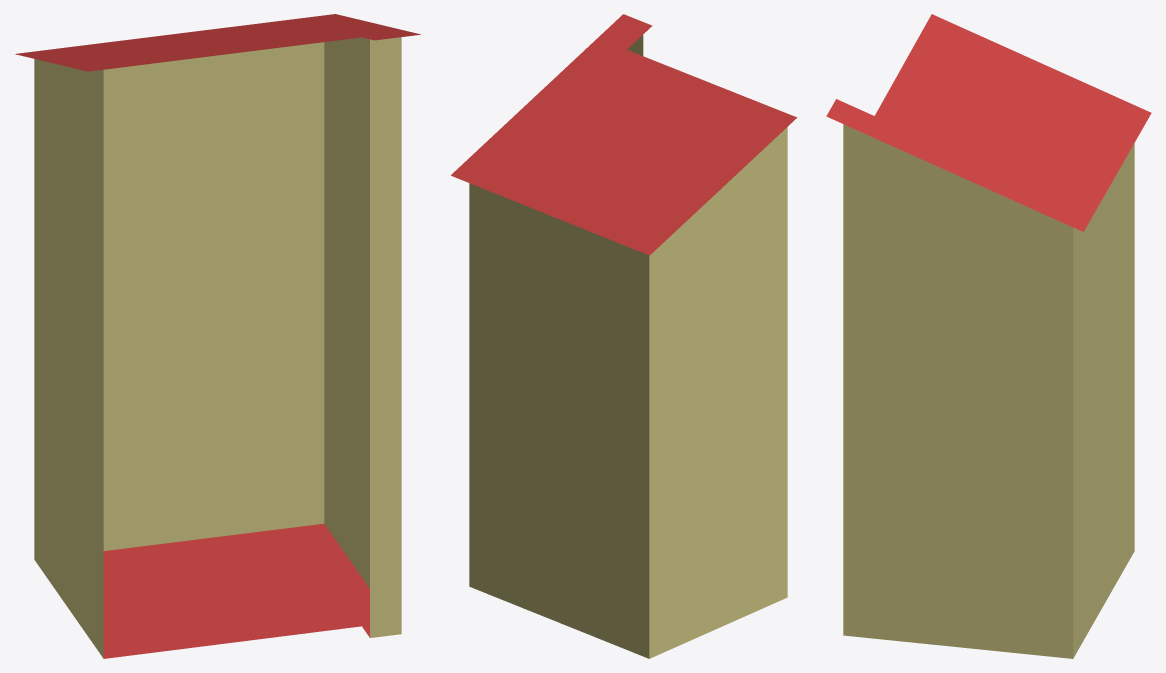
3 renders of one model, left to right at view 1: azimuth 30°, elevation 25°; view 2: azimuth 150°, elevation 25°; view 3: azimuth 270°, elevation 25°, orthographic. The views are drawn at different scales.
Size of the model in its own units: 5.9 by 5.73 by 10.17.
